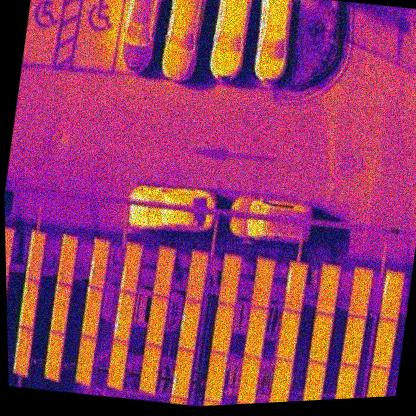Diode: (378, 269, 405, 323), (282, 260, 309, 313), (169, 346, 195, 399), (118, 241, 143, 296), (87, 238, 110, 289)
Hotspot: (176, 297, 203, 351), (111, 289, 137, 342), (80, 287, 103, 339), (331, 361, 358, 399)
Normal: (274, 307, 303, 362), (339, 313, 368, 367), (208, 301, 236, 356), (307, 310, 335, 364), (370, 315, 398, 369), (202, 350, 229, 404), (242, 305, 269, 359), (216, 253, 243, 305), (314, 265, 341, 316), (347, 266, 374, 317), (234, 353, 261, 404), (250, 257, 276, 309), (144, 294, 169, 348), (151, 247, 176, 299), (183, 249, 208, 301), (49, 280, 73, 334), (137, 341, 161, 393), (105, 338, 129, 390), (74, 334, 98, 386), (267, 356, 293, 403), (299, 358, 327, 401), (24, 228, 47, 280), (11, 324, 34, 375), (56, 235, 79, 285), (42, 330, 65, 380), (17, 277, 39, 329), (363, 364, 389, 398), (5, 226, 14, 277)
